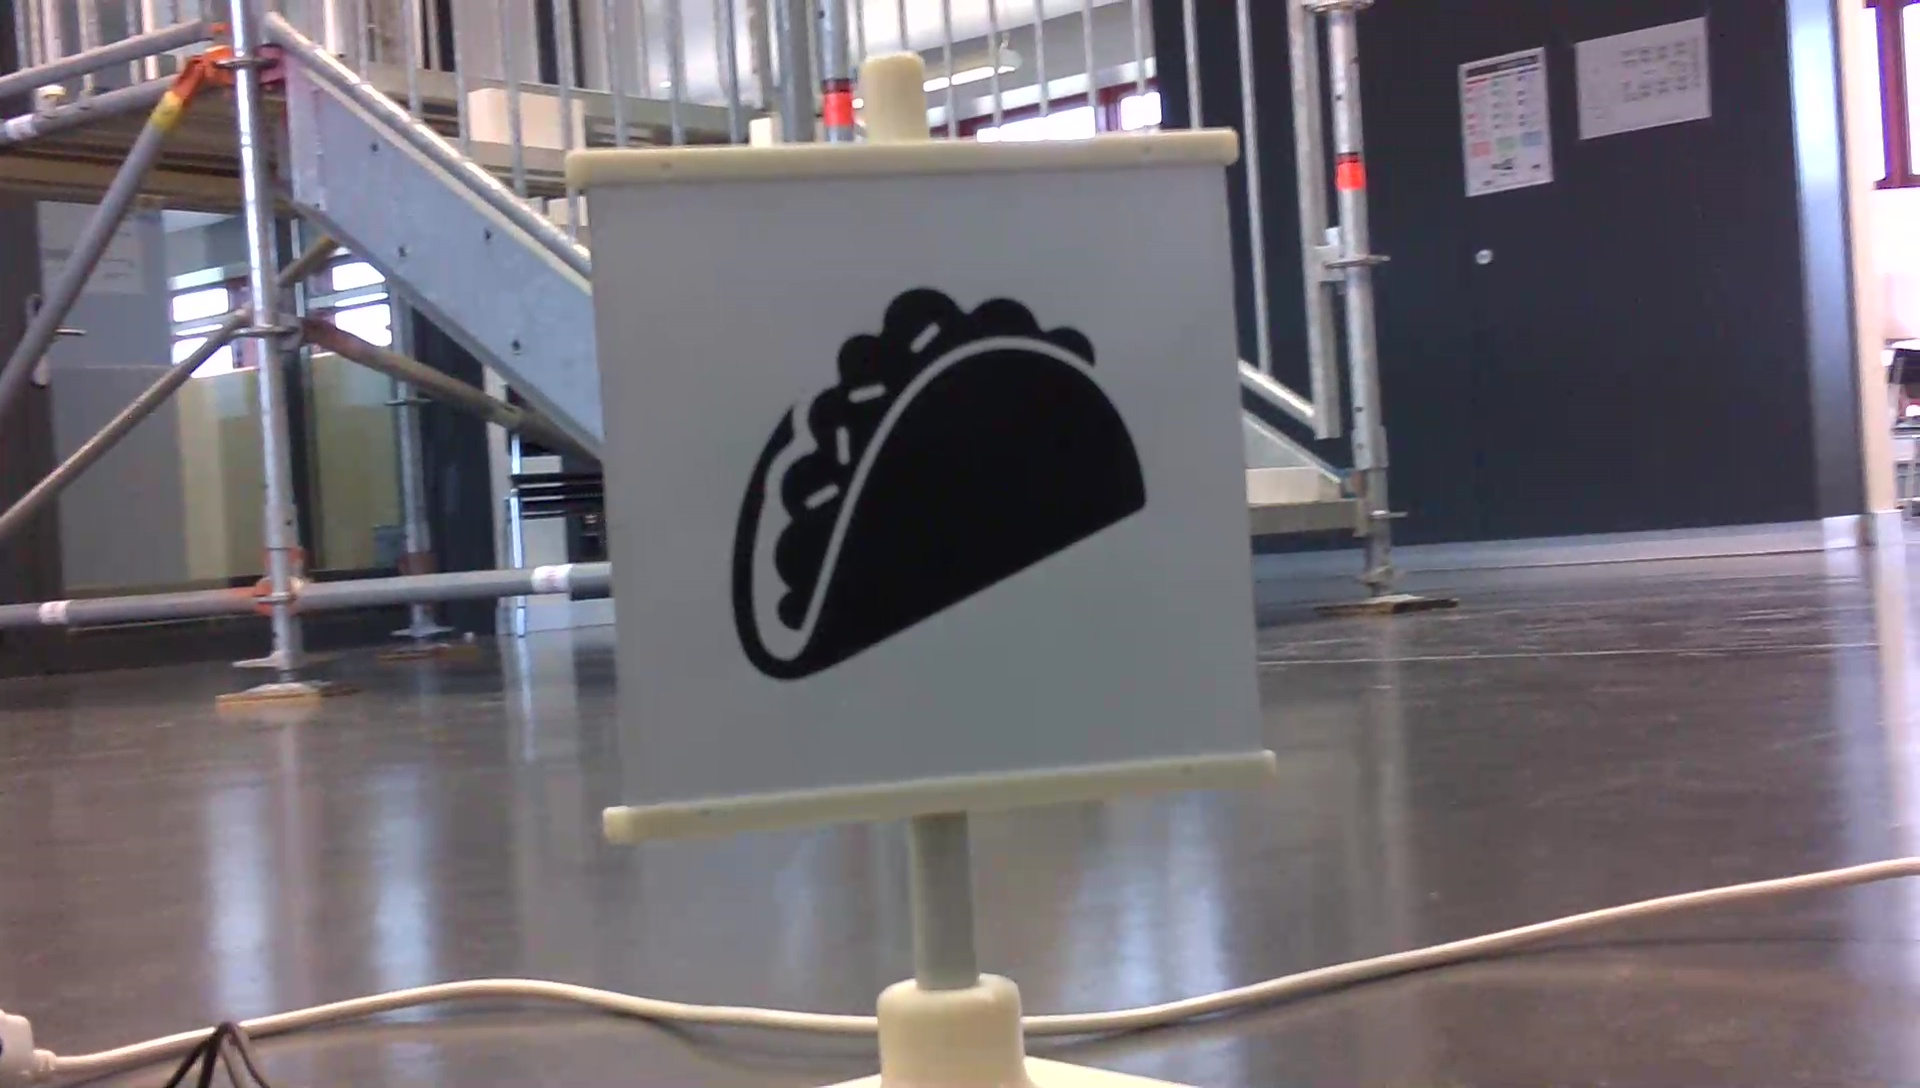brick: (1245, 463, 1317, 500)
taco: (717, 281, 1158, 687)
